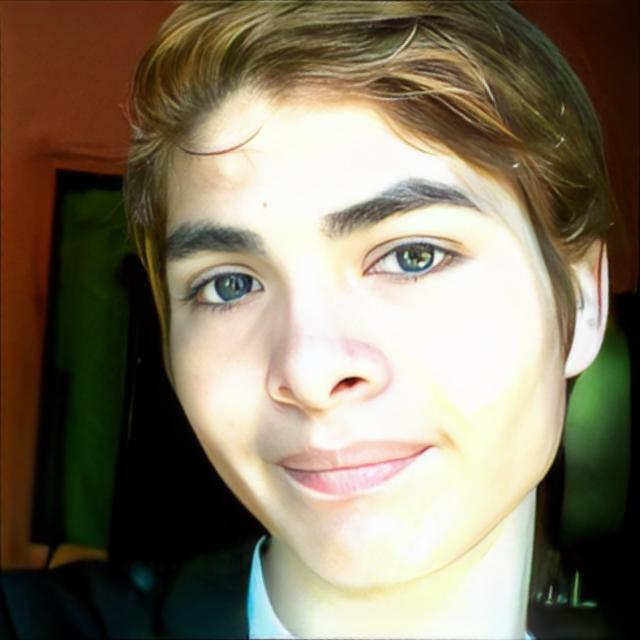content: (154, 78, 562, 590)
